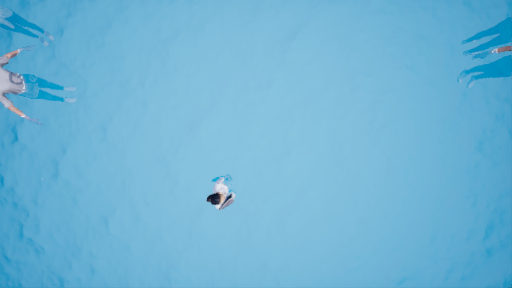person: (1, 38, 57, 126), (198, 170, 252, 216)
